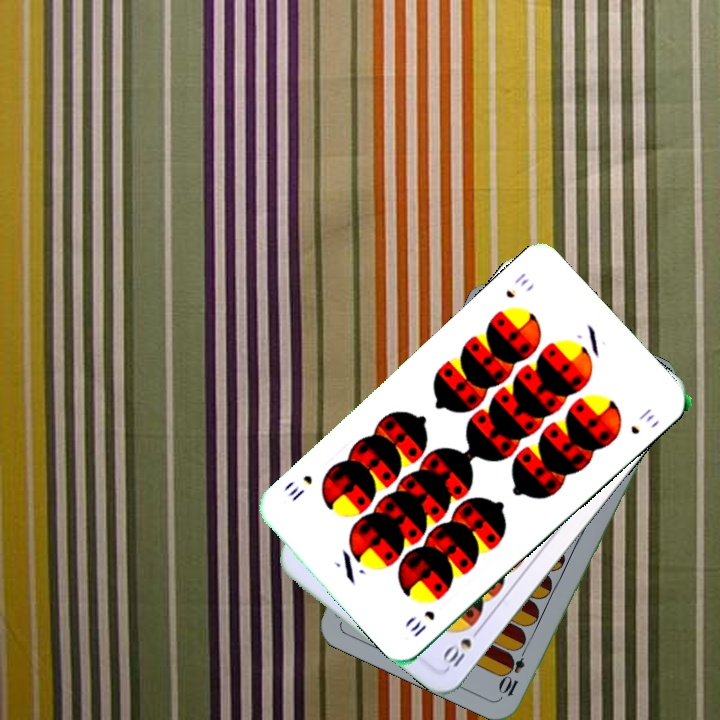E10: (496, 641, 530, 699)
S10: (438, 622, 485, 670), (405, 606, 438, 640), (501, 268, 532, 301)
